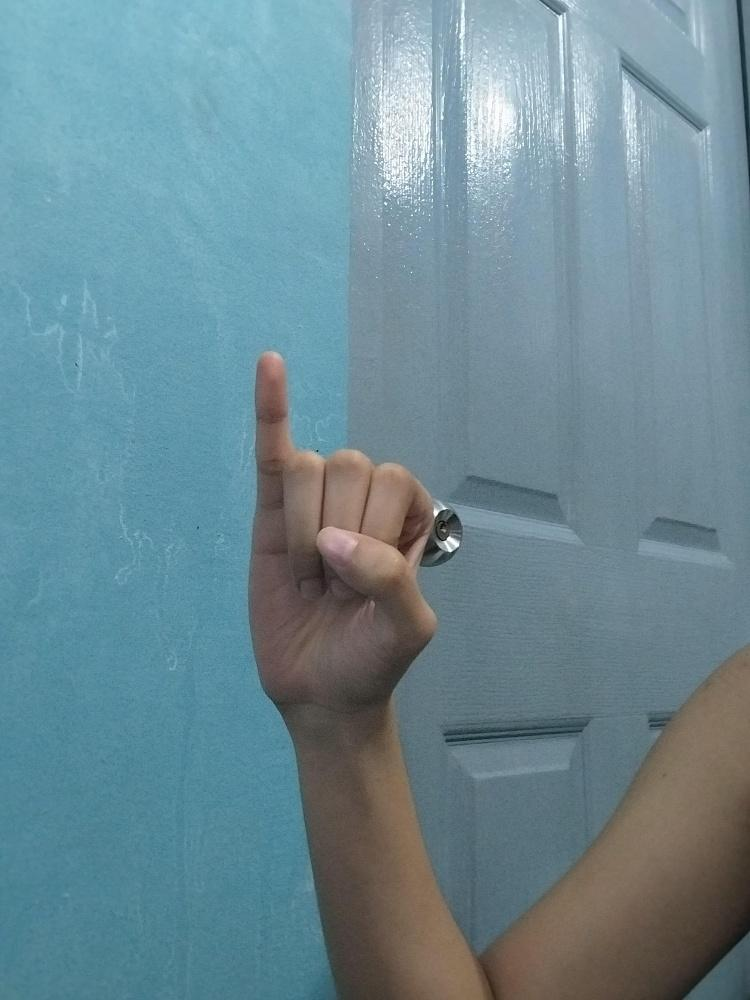i: (247, 344, 437, 708)
